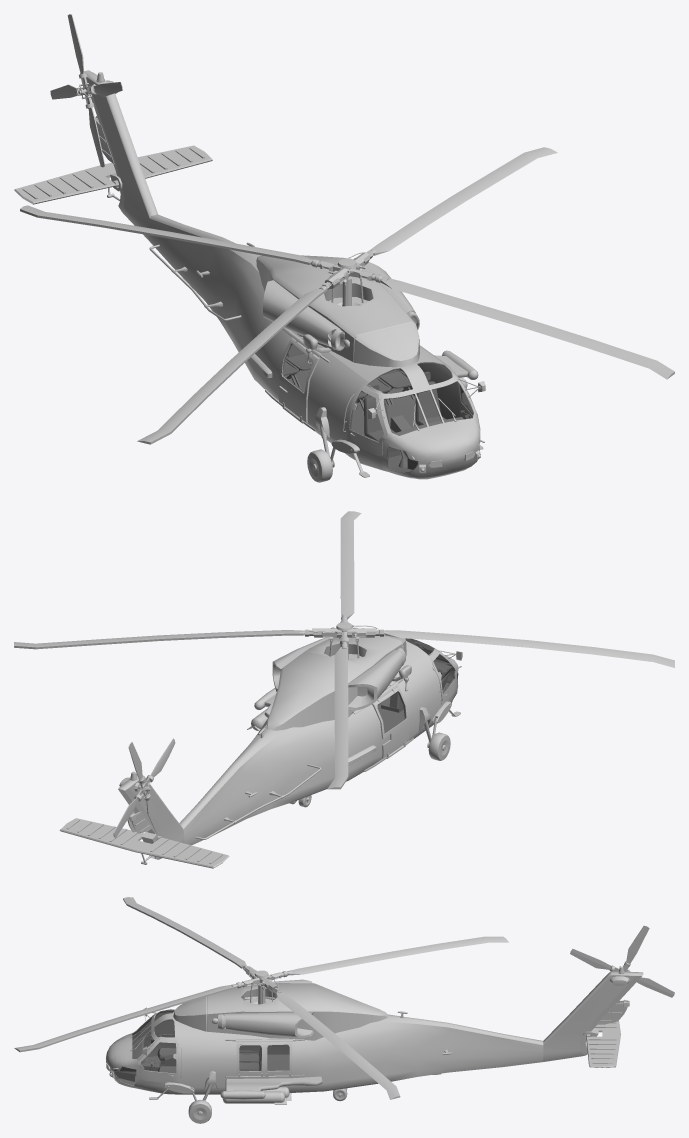
Rendered from helicopter.fbx.
3 views of the same model, one above another, from view 1: azimuth 30°, elevation 25°; view 2: azimuth 150°, elevation 25°; view 3: azimuth 270°, elevation 25° (orthographic). The views are drawn at different scales.
Visible parts, largest first — view 1: helicopter, rescue_1, glass, rescue_2, back_door, right_door, right_tyre; view 2: helicopter, rescue_1, glass, rescue_2, back_door; view 3: helicopter, rescue_1, glass, rescue_2, left_door, left_tyre.
Part boxes in pixels (x1,y1,x2,y2): helicopter: (14, 70, 485, 479); rescue_1: (20, 147, 674, 444); glass: (282, 343, 479, 472); rescue_2: (50, 14, 122, 167); back_door: (278, 337, 319, 423); right_door: (347, 387, 387, 456); right_tyre: (307, 449, 332, 482); helicopter: (59, 628, 462, 868); rescue_1: (14, 511, 674, 789); glass: (377, 638, 457, 732); rescue_2: (113, 738, 175, 838); back_door: (372, 686, 408, 758); helicopter: (106, 966, 643, 1104); rescue_1: (14, 897, 508, 1099); glass: (114, 1009, 289, 1084); rescue_2: (570, 925, 674, 997); left_door: (138, 1039, 178, 1082); left_tyre: (188, 1099, 211, 1123).
Bounding box in the file's own units: 1348 × 494 × 1770.
